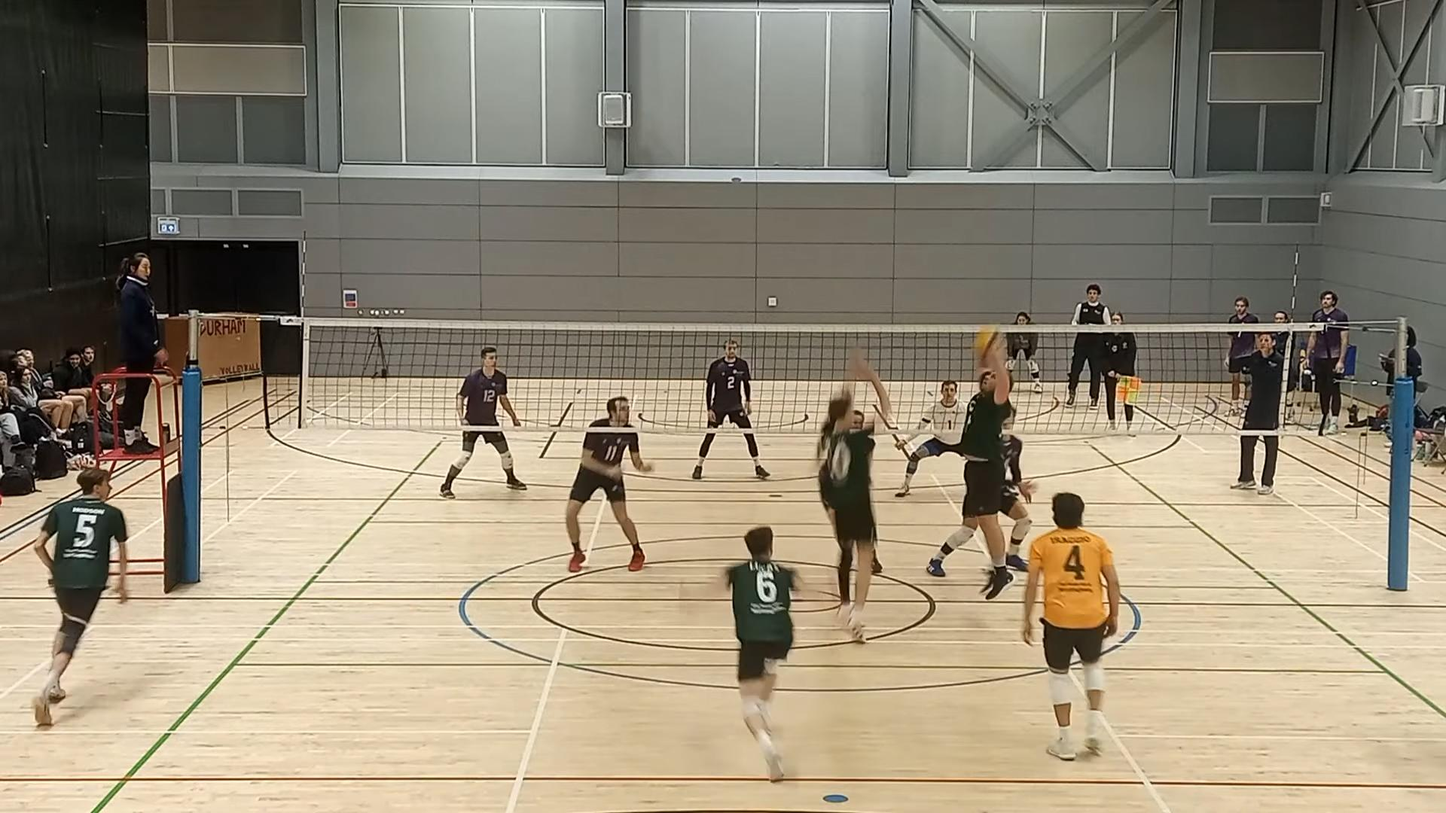alzata: (964, 341, 1013, 604)
